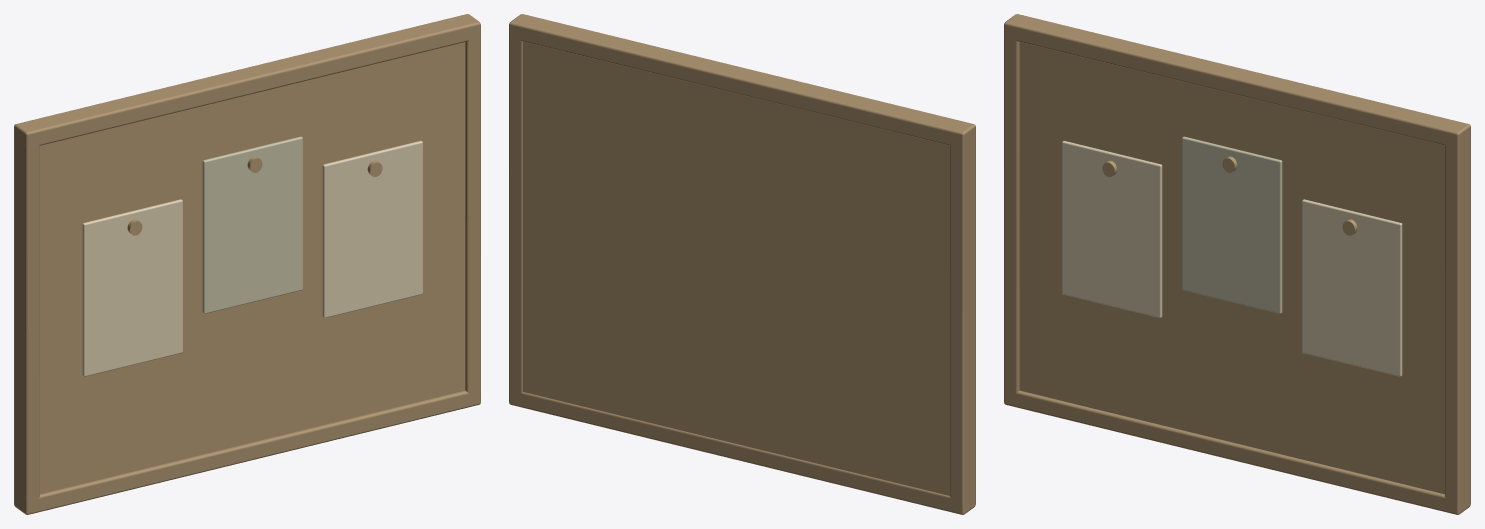
Rendered from corkboard.glb.
3 renders of one model, left to right at view 1: azimuth 30°, elevation 25°; view 2: azimuth 150°, elevation 25°; view 3: azimuth 330°, elevation 25°, orthographic.
Parts seen in each view (by area): view 1: cork-board-inset, pinned-note-0, pinned-note-1, pinned-note-2, cork-board-rail-1, cork-board-stile--1, cork-board-rail--1, cork-board-stile-1; view 2: cork-board-inset, cork-board-rail-1, cork-board-stile--1, cork-board-rail--1, cork-board-stile-1; view 3: cork-board-inset, pinned-note-2, pinned-note-1, pinned-note-0, cork-board-rail-1, cork-board-stile-1, cork-board-rail--1, cork-board-stile--1.
Boxes of the visible parts, left/top/right/bottom form: cork-board-inset: left=40, top=42, right=465, bottom=494; pinned-note-0: left=82, top=199, right=182, bottom=376; pinned-note-1: left=202, top=136, right=302, bottom=313; pinned-note-2: left=322, top=141, right=422, bottom=317; cork-board-rail-1: left=14, top=14, right=480, bottom=146; cork-board-stile--1: left=14, top=121, right=39, bottom=514; cork-board-rail--1: left=14, top=390, right=480, bottom=514; cork-board-stile-1: left=457, top=14, right=480, bottom=406; cork-board-inset: left=523, top=41, right=949, bottom=495; cork-board-rail-1: left=509, top=14, right=975, bottom=145; cork-board-stile--1: left=950, top=121, right=975, bottom=514; cork-board-rail--1: left=509, top=391, right=975, bottom=513; cork-board-stile-1: left=509, top=14, right=532, bottom=406; cork-board-inset: left=1019, top=42, right=1444, bottom=494; pinned-note-2: left=1302, top=199, right=1402, bottom=376; pinned-note-1: left=1182, top=136, right=1282, bottom=313; pinned-note-0: left=1062, top=141, right=1162, bottom=317; cork-board-rail-1: left=1004, top=14, right=1470, bottom=146; cork-board-stile-1: left=1445, top=121, right=1470, bottom=514; cork-board-rail--1: left=1004, top=390, right=1470, bottom=514; cork-board-stile--1: left=1004, top=14, right=1027, bottom=407.
Size of the model in its own units: 1.1 by 0.8839 by 0.0645.
